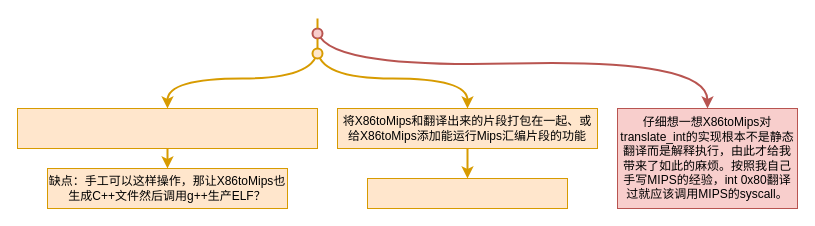
This 815x226 diagram has some shape labels left out. Here are the shapes that lost their labels. From the top down, the centre of each, then its label:
the point at 167,128: 将翻译出来的MIPS汇编以嵌入式汇编的形式放入C++文件中，和需要的变量函数一起编译生成MIPS ELF文件
the point at 467,193: 这个和本身的动态翻译有什么两样？
